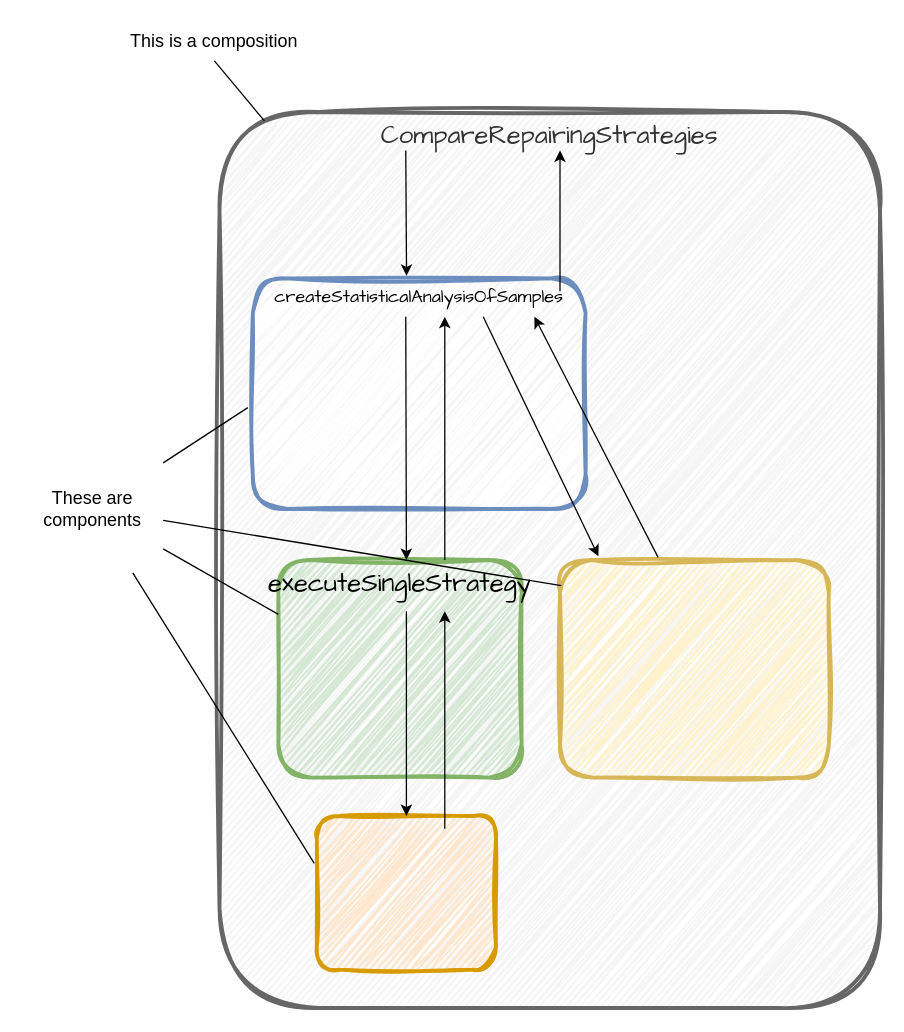
Some shapes in this 904 by 1032 pixel diagram are drawn without their labels. Here are the shapes that lost their labels. From the top down, the box of each, then its label:
(557, 557, 830, 779): getStandardDeviation
(314, 813, 497, 971): repairTrial
